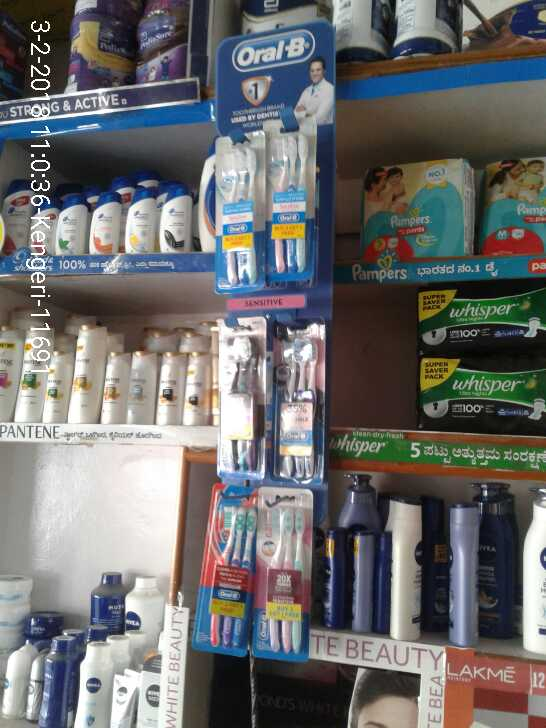beauty: (2, 327, 221, 430), (92, 189, 127, 259), (54, 194, 90, 254), (163, 182, 194, 250), (5, 177, 31, 247), (30, 186, 56, 249), (129, 191, 153, 251)
pharmacy: (350, 162, 476, 264), (418, 344, 546, 429), (254, 500, 313, 663), (414, 275, 546, 331), (269, 326, 320, 470), (219, 326, 268, 473), (204, 492, 249, 648), (264, 138, 317, 270), (216, 145, 262, 286), (484, 163, 546, 257)
